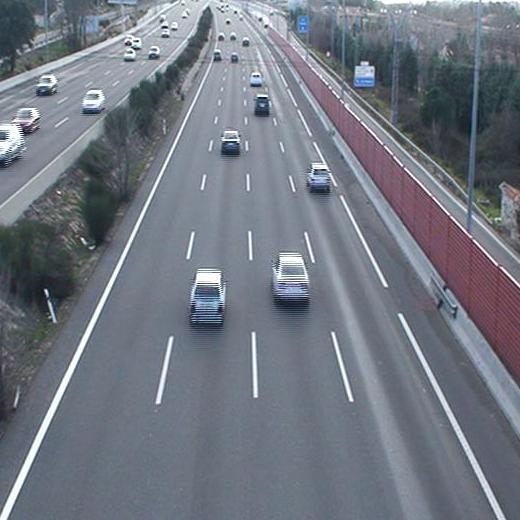car: (187, 266, 229, 327), (271, 250, 313, 306), (305, 162, 333, 192), (218, 129, 243, 156), (252, 93, 270, 116), (248, 71, 264, 87)
